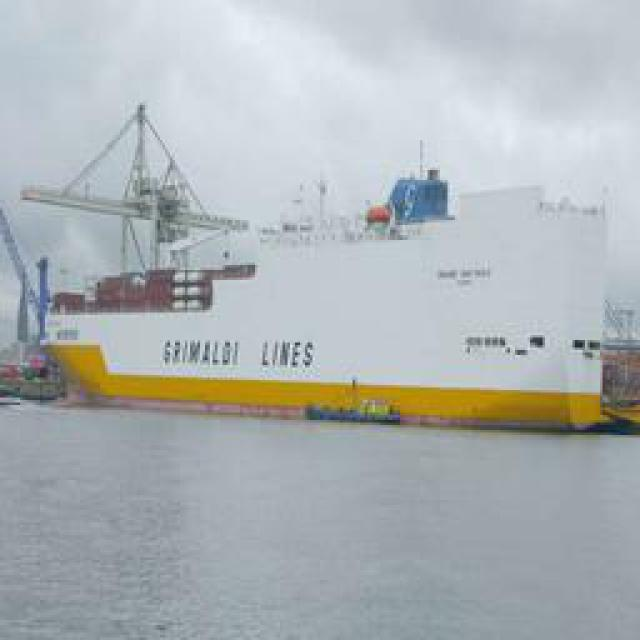Ship: (29, 103, 619, 428)
